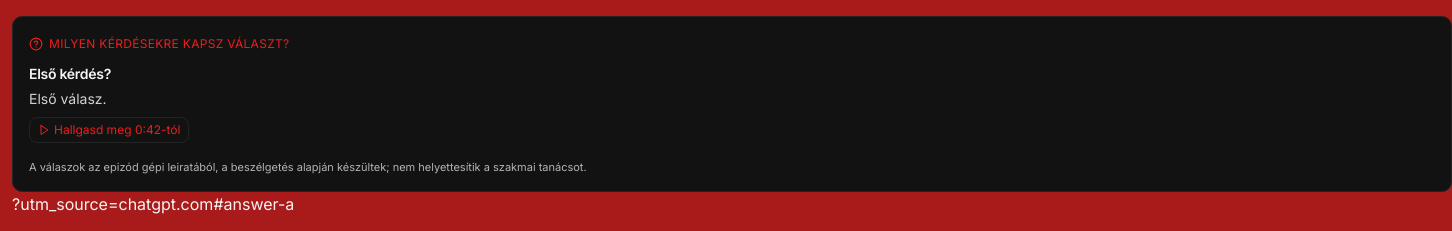
Test: public answer navigation › preserves acquisition parameters and anchor when seeking to a verified answer
Click the button "Hallgasd meg 0:42-tól".
click(109, 130)  # box [29,117,189,143]
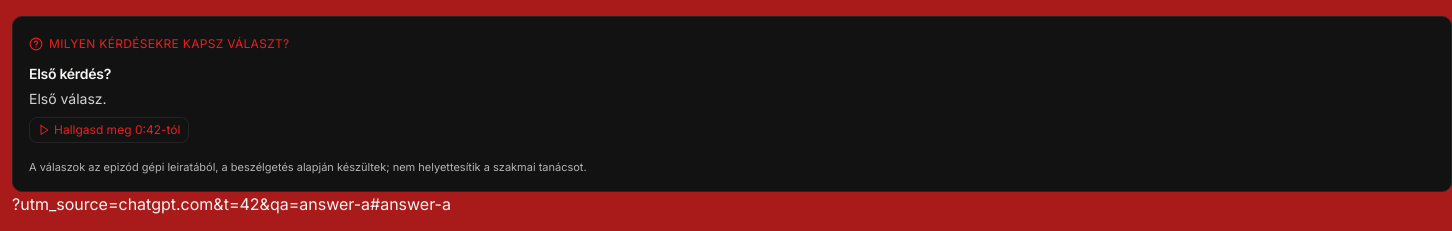
Check: the text with test id "location" reads "?utm_source=chatgpt.com&t=42&qa=answer-a#answer-a", box [12,194,451,214]
